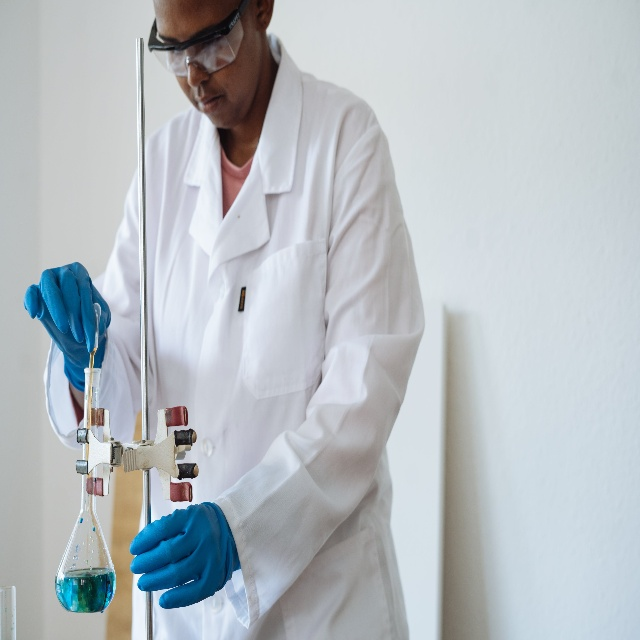Gafas: (147, 3, 245, 76)
Guantes: (129, 502, 240, 610), (23, 261, 112, 393)
